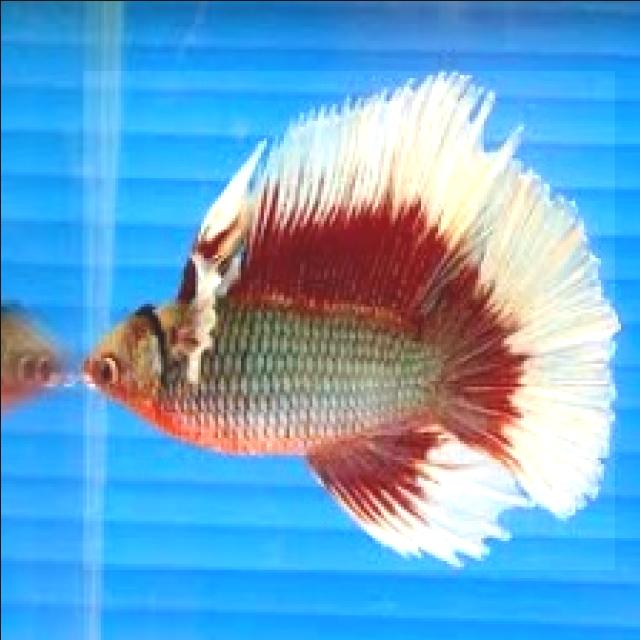Gill Disease: (81, 70, 614, 569)
